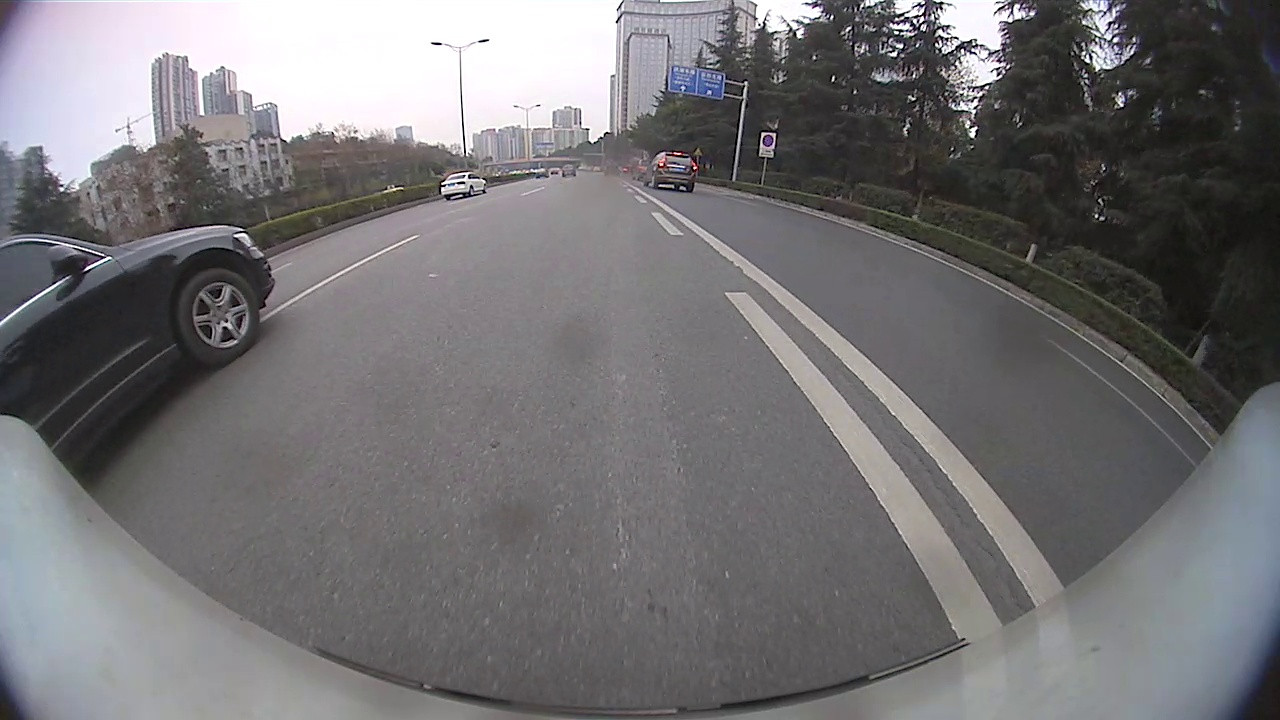car: (0, 226, 277, 471), (641, 150, 699, 193), (439, 169, 487, 200)
front: (177, 267, 262, 363)
